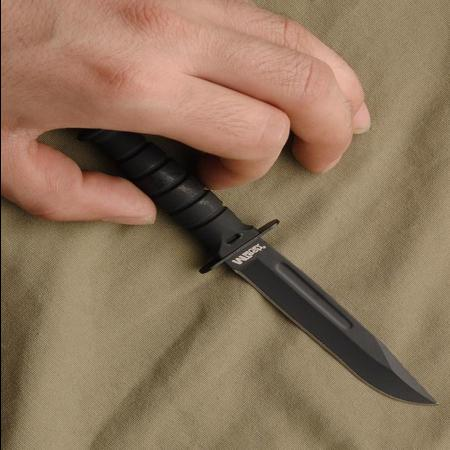long weapon: (16, 62, 444, 410)
